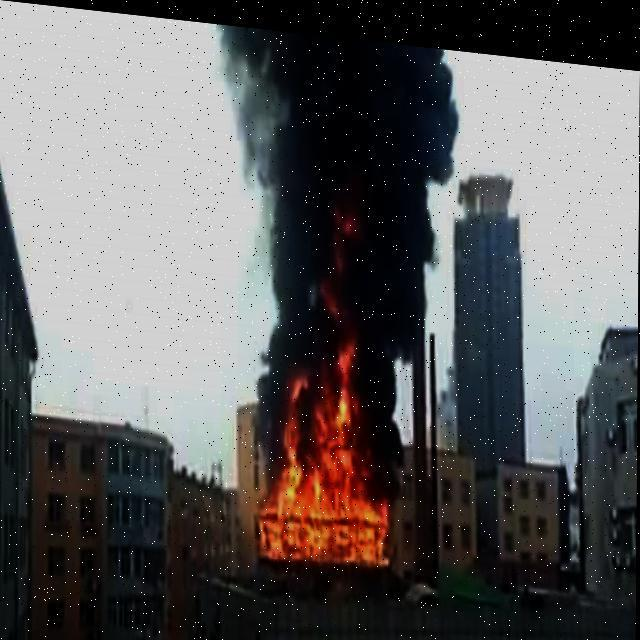Fire: (254, 142, 400, 567)
